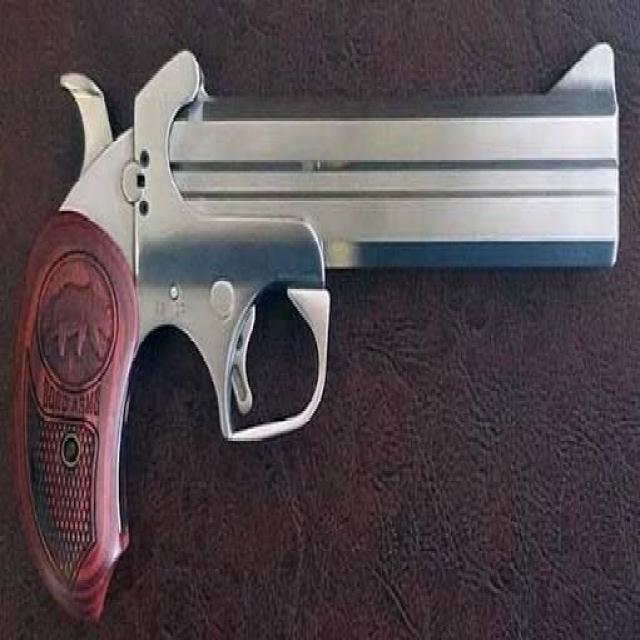revolver: (6, 0, 628, 632)
